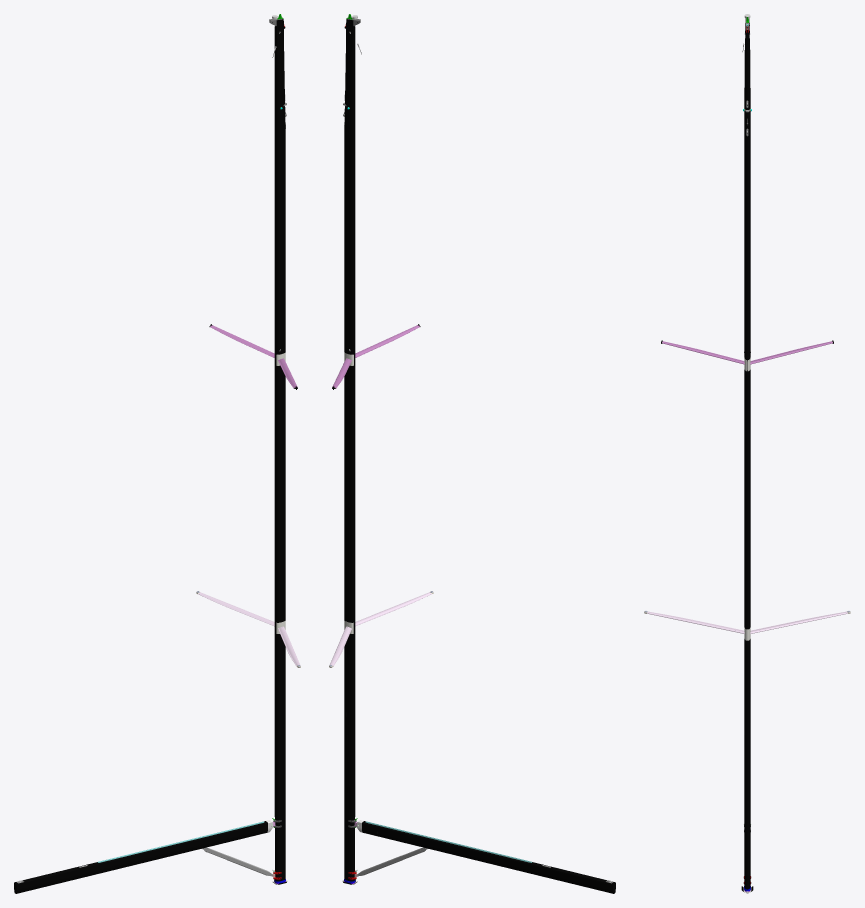
3 views of the same model, side by side, from view 1: azimuth 30°, elevation 25°; view 2: azimuth 150°, elevation 25°; view 3: azimuth 270°, elevation 25° (orthographic).
Parts seen in each view (by area): view 1: c0_0_0, c247_205_247; view 2: c0_0_0, c247_205_247; view 3: c0_0_0, c247_205_247, c152_66_148.
Boxes of the visible parts, box(x1,y1,x2,y2) form: c0_0_0: box(14, 19, 297, 893); c247_205_247: box(198, 592, 300, 666); c0_0_0: box(332, 19, 615, 893); c247_205_247: box(329, 592, 431, 666); c0_0_0: box(661, 23, 833, 891); c247_205_247: box(647, 611, 847, 633); c152_66_148: box(662, 341, 832, 364).
Size of the model in its own units: 5111 by 15634 by 3351.
